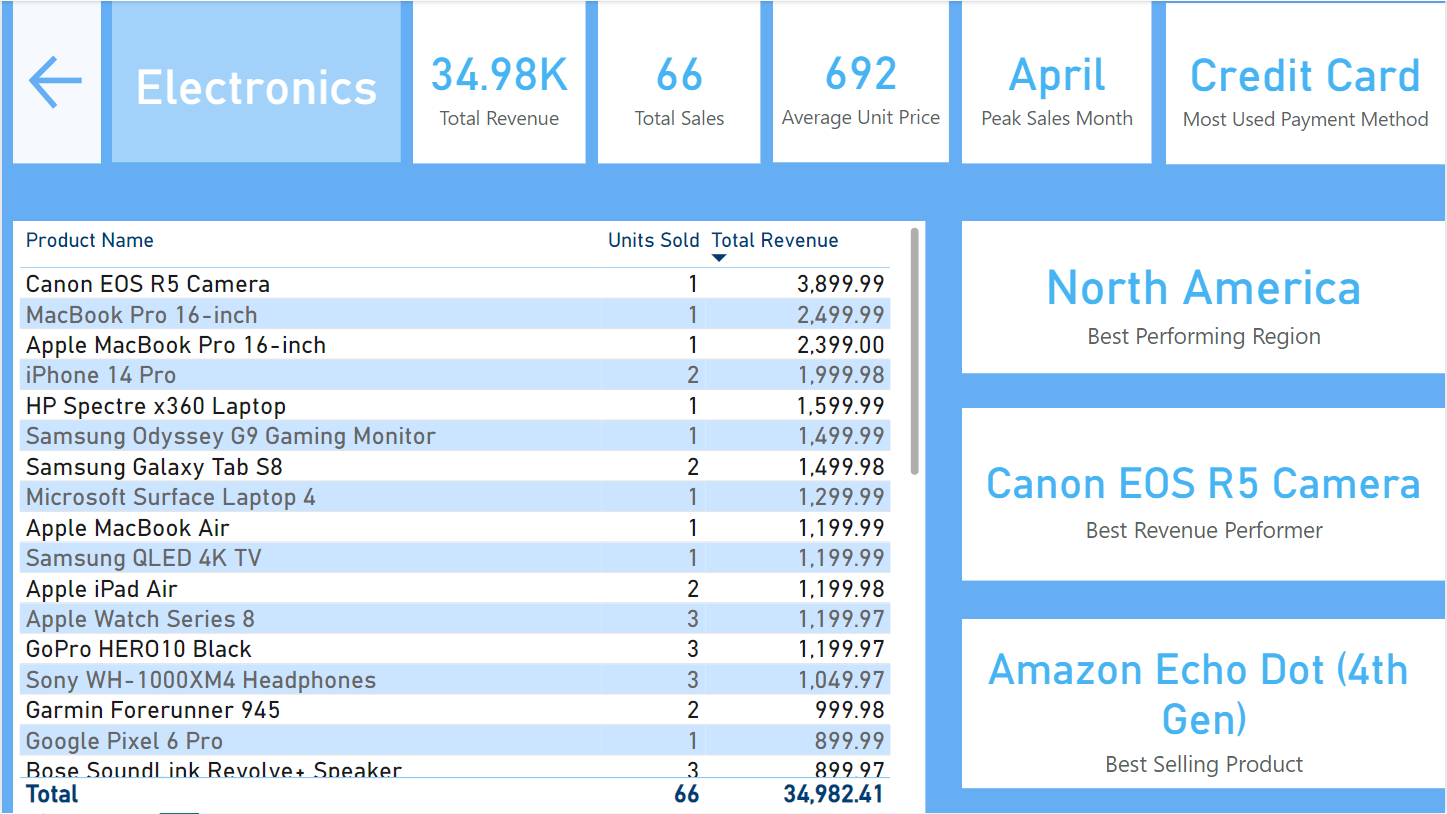

Layout of this report page (visuals, bound fields, positions):
{"tool":"powerbi","page":{"name":"Info","canvas":[1280,720],"ordinal":1},"visuals":[{"type":"tableEx","fields":{"Values":["Online Sales Data.Product Name","Sum(Online Sales Data.Units Sold)","Sum(Online Sales Data.Total Revenue)"]},"box":[9.6,194.7,808.9,525.3],"z":0},{"type":"card","title":"High Value Items","fields":{"Values":["Min(Online Sales Data.Product Name)"]},"box":[851,548.1,429.1,150.3],"z":1000},{"type":"card","title":"High Value Items","fields":{"Values":["Min(Online Sales Data.Product Name)"]},"box":[851,360.6,429.1,152.7],"z":2000},{"type":"card","title":"High Value Items","fields":{"Values":["Sum(Online Sales Data.Total Revenue)"]},"box":[102.3,1.3,221.1,142.8],"z":3000},{"type":"card","title":"High Value Items","fields":{"Values":["Sum(Online Sales Data.Units Sold)"]},"box":[336.1,0,184.5,144],"z":4000},{"type":"card","title":"High Value Items","fields":{"Values":["Min(Online Sales Data.Region)"]},"box":[851,194.7,429.1,134.6],"z":5000},{"type":"card","fields":{"Values":["Min(Online Sales Data.Date.Variation.Date Hierarchy.Month)"]},"box":[736.7,1.3,204.7,142.8],"z":6000},{"type":"card","title":"High Value Items","fields":{"Values":["Avg(Online Sales Data.Unit Price)"]},"box":[533.2,1.3,189.5,142.8],"z":7000},{"type":"card","title":"High Value Items","fields":{"Values":["Min(Online Sales Data.Payment Method)"]},"box":[953.2,1.2,326.9,143],"z":8000},{"type":"actionButton","box":[9.6,0,78.1,144.2],"z":9000}]}

Visuals, with their boxes in screenshot pixels (x1, y1, x2, y2), scaled from the page's 1280x720 canvas onto the 1447x814 screenshot:
tableEx - Online Sales Data.Product Name x Sum(Online Sales Data.Units Sold): bbox=[11, 220, 925, 813]
"High Value Items" card: bbox=[962, 620, 1446, 790]
"High Value Items" card: bbox=[962, 408, 1446, 580]
"High Value Items" card: bbox=[116, 1, 366, 163]
"High Value Items" card: bbox=[380, 0, 589, 163]
"High Value Items" card: bbox=[962, 220, 1446, 372]
card - Min(Online Sales Data.Date.Variation.Date Hierarchy.Month): bbox=[833, 1, 1064, 163]
"High Value Items" card: bbox=[603, 1, 817, 163]
"High Value Items" card: bbox=[1078, 1, 1446, 163]
actionButton: bbox=[11, 0, 99, 163]
